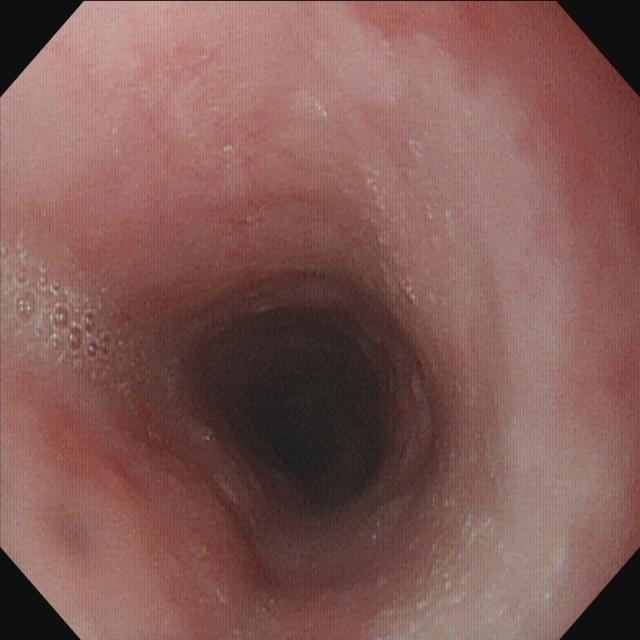E: (205, 307, 397, 519)
T: (2, 242, 151, 399)
